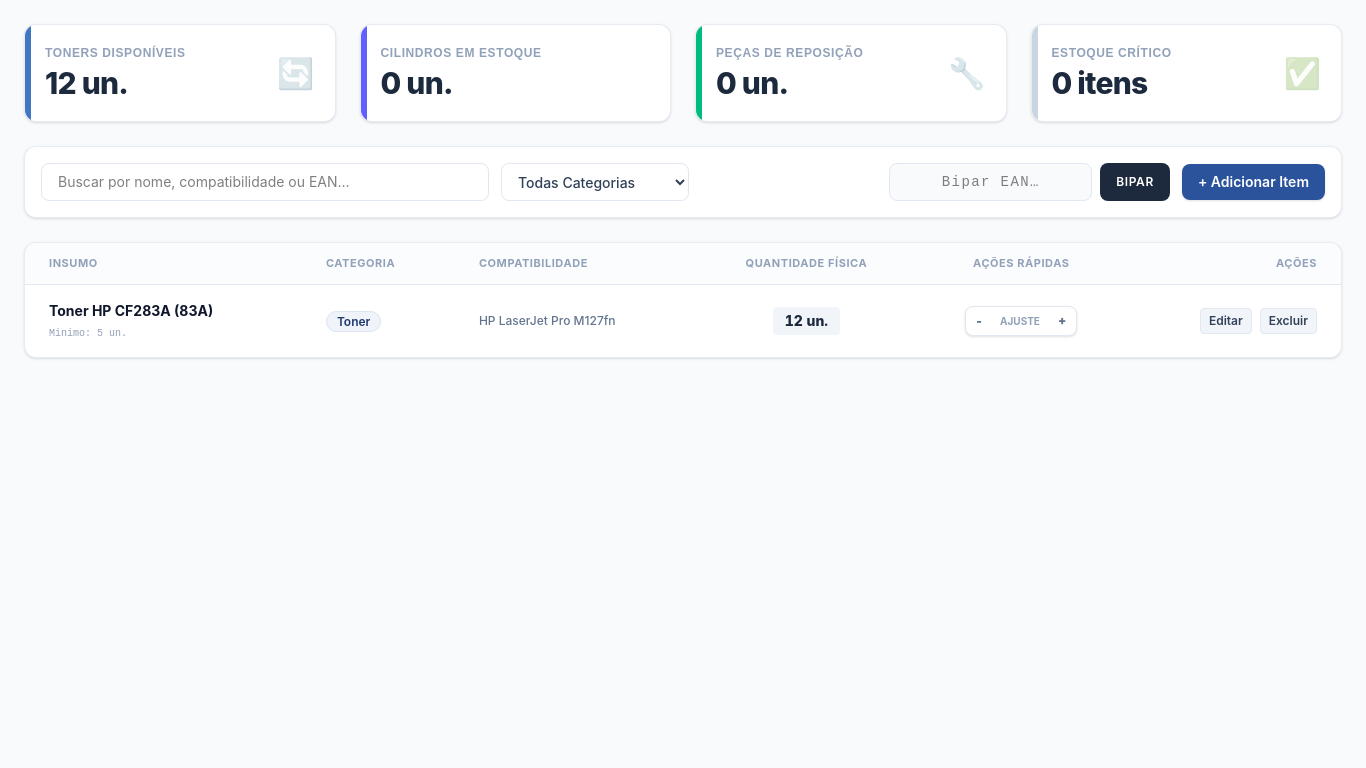
Test: BarcodeScanning Integration Tests › deve abrir o modal de cadastro pré-preenchido ao bipar um produto inédito
Check: the text "Toner HP CF283A (83A)" is shown, box [49,302,213,318]
Note: Digita um código novo
Type "7899999999999" into the field with placeholder "Bipar EAN…". click: (991, 182)
box: [889,163,1092,201]
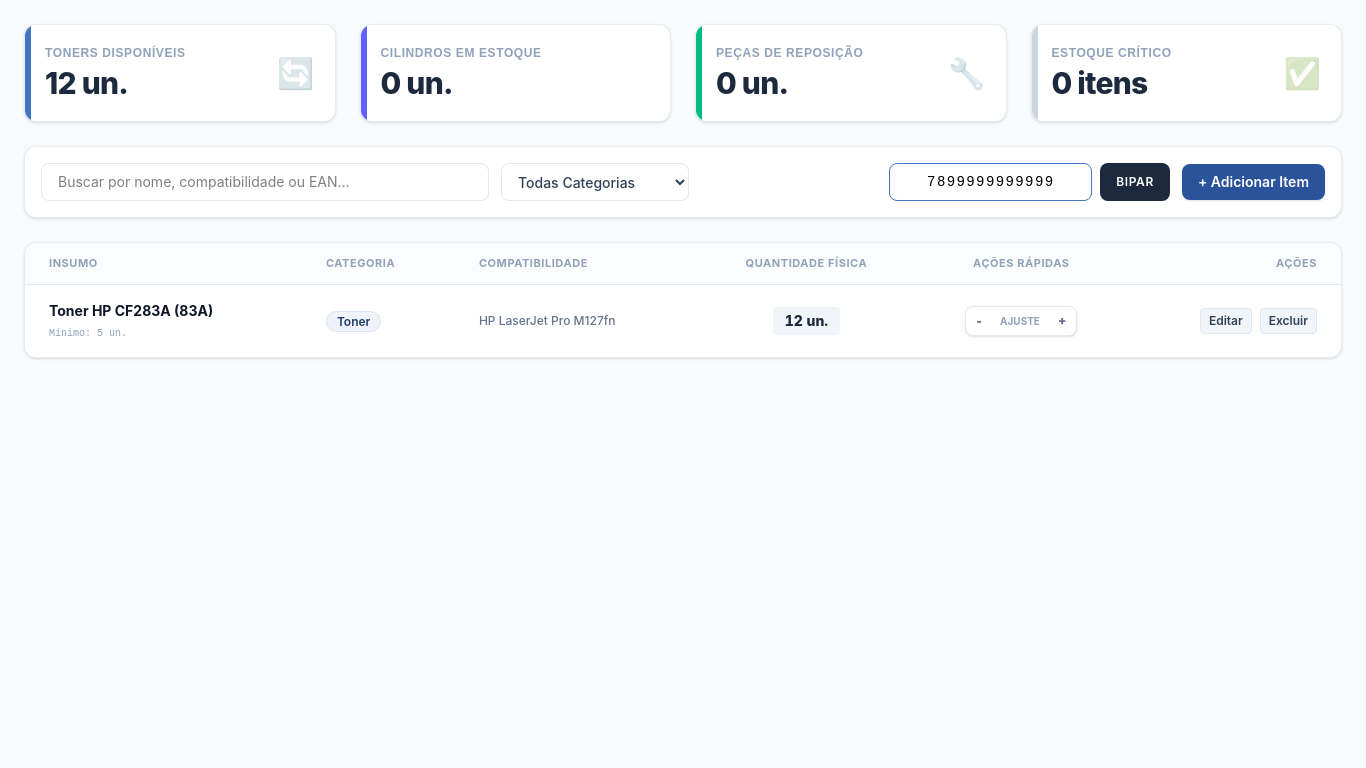
Note: Clica no botão Bipar
Click the button "Bipar". click: (1135, 182)
box: [1100,163,1170,201]
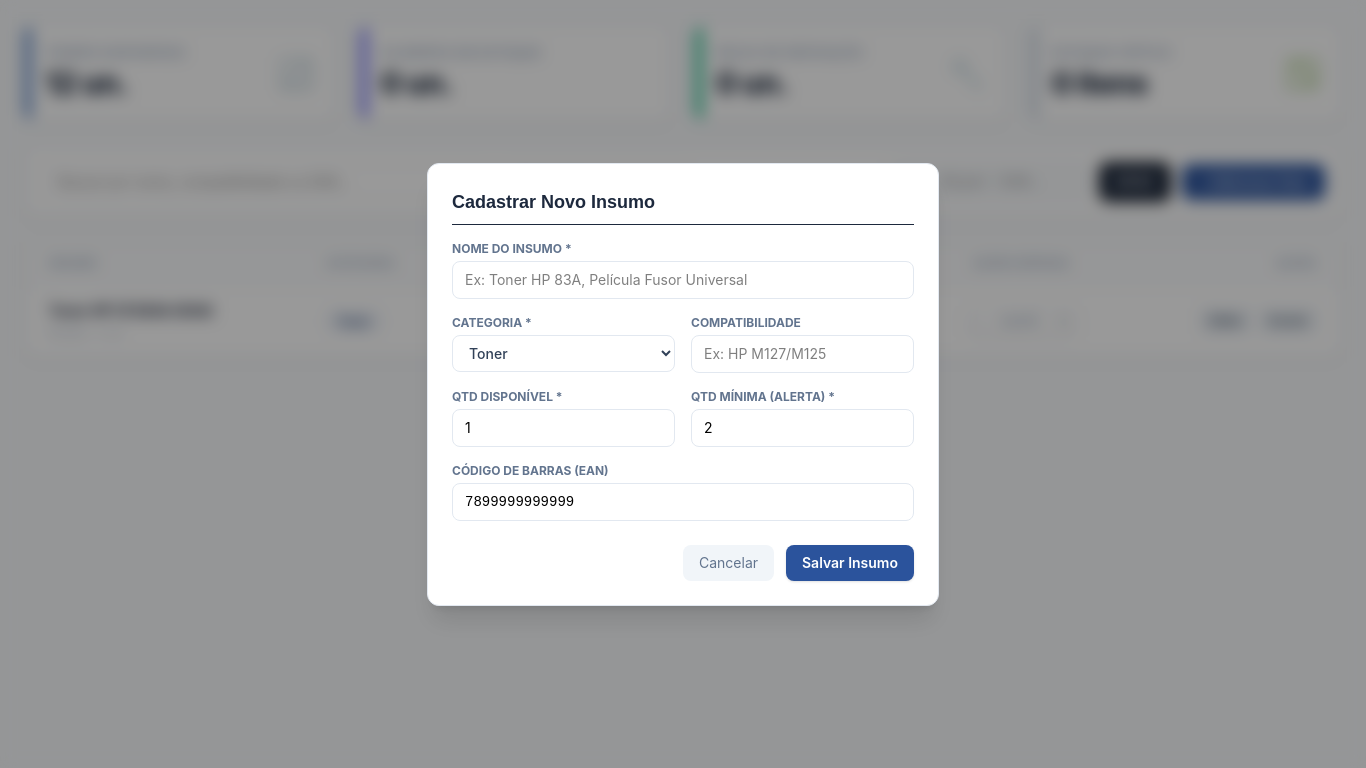
Check: the heading "Cadastrar Novo Insumo" is shown, box [452,188,914,224]
Check: the field labelled "Código de Barras (EAN)" holds "7899999999999", box [452,482,914,520]
